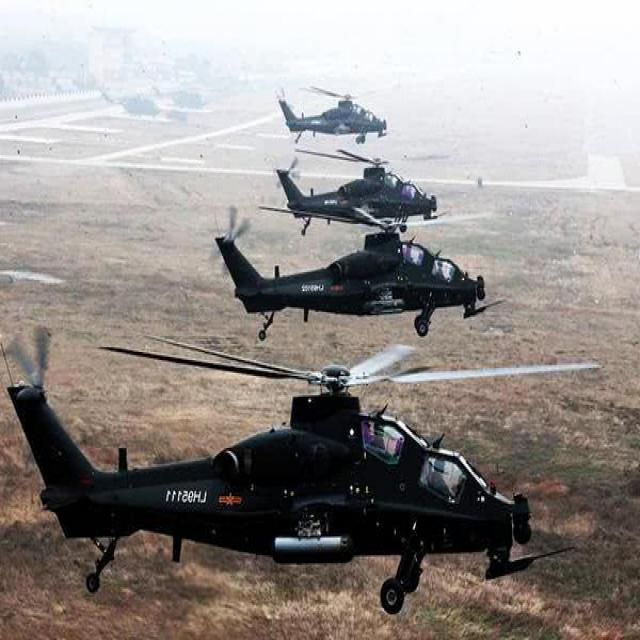MIL_HELO: (3, 306, 617, 621), (206, 201, 511, 351), (251, 135, 466, 242), (256, 80, 404, 147)
